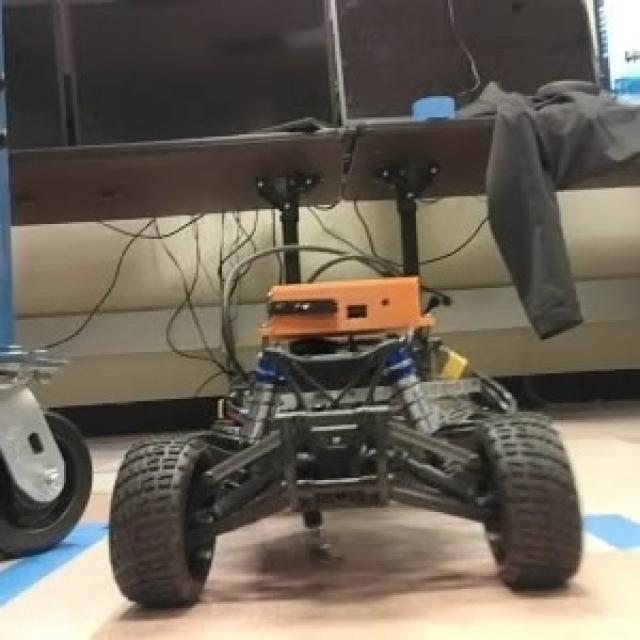obstacle: (107, 270, 582, 612)
